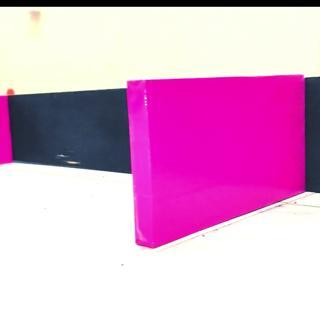xparking: (131, 79, 304, 224)
